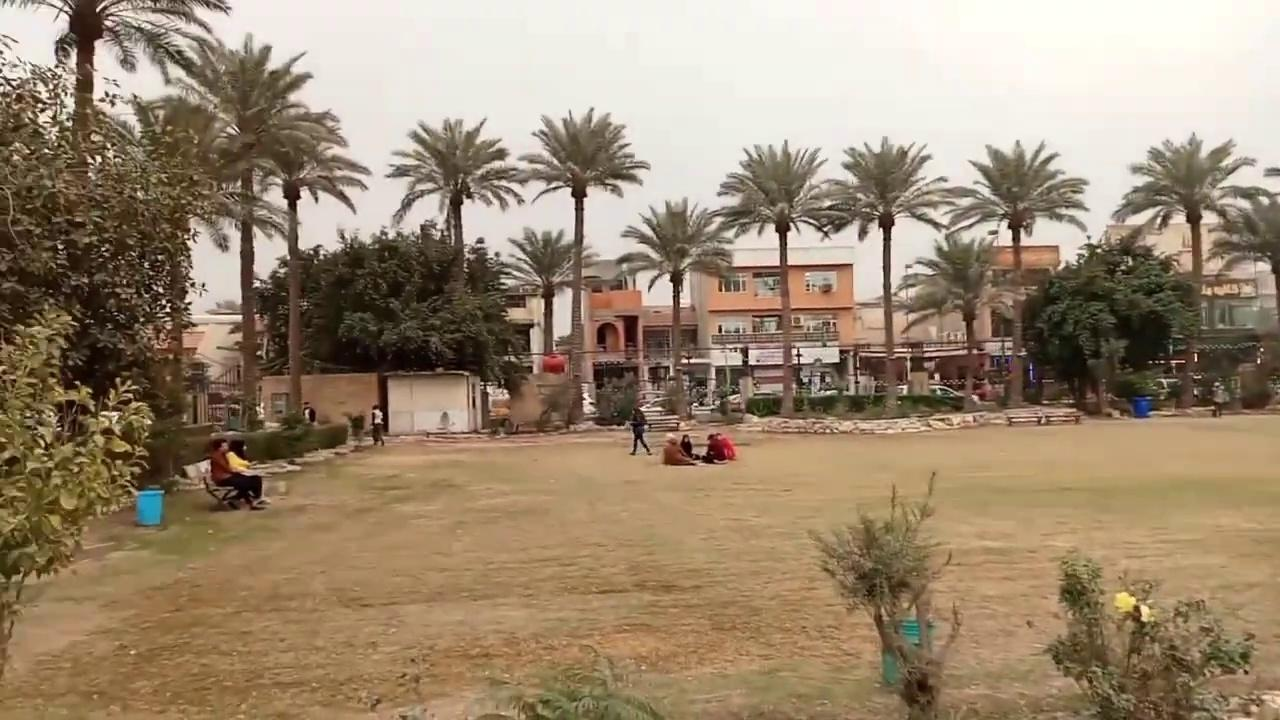fountain: (492, 349, 750, 433), (208, 404, 350, 464), (500, 350, 583, 433), (878, 614, 936, 685), (592, 368, 639, 426), (658, 369, 695, 419)
person: (209, 438, 266, 510), (628, 406, 652, 455), (662, 433, 696, 465), (702, 432, 737, 462), (370, 403, 385, 446), (1211, 381, 1228, 417), (679, 433, 695, 458), (302, 401, 316, 424)
tree: (2, 0, 233, 491), (149, 31, 339, 429), (0, 302, 156, 673), (113, 92, 235, 490), (301, 222, 515, 433), (1111, 130, 1257, 407), (941, 137, 1090, 406), (806, 470, 963, 717), (250, 105, 371, 419), (1041, 548, 1264, 718), (2, 0, 231, 160), (813, 135, 951, 400), (383, 115, 522, 371), (715, 138, 842, 416), (511, 105, 650, 356), (1033, 228, 1201, 414), (614, 196, 734, 418), (895, 233, 1023, 409), (462, 645, 667, 719), (492, 226, 599, 355), (1207, 184, 1279, 324), (1035, 292, 1118, 412)
